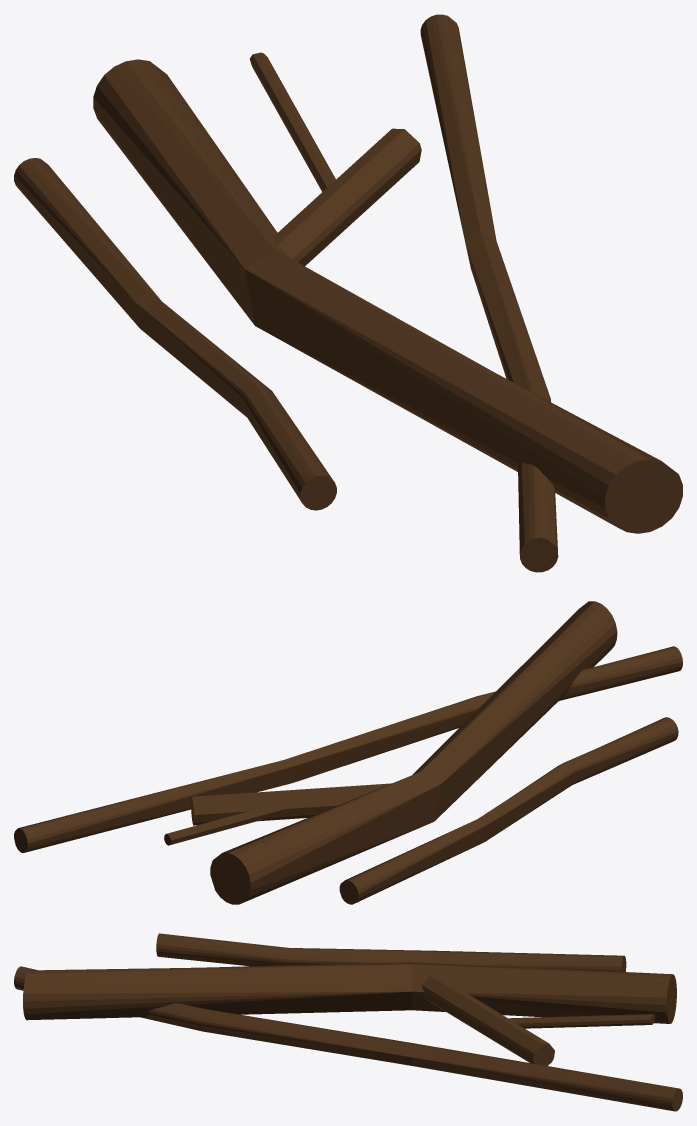
Rendered from twigs.fbx.
The picture shows the model from 3 angles, top to bottom: view 1: azimuth 30°, elevation 25°; view 2: azimuth 150°, elevation 25°; view 3: azimuth 270°, elevation 25°; orthographic projection. The views are drawn at different scales.
Visible parts, largest first — view 1: pCylinder6, branch3, branch2, pCylinder8, pCylinder9; view 2: pCylinder6, branch3, branch2, pCylinder8, pCylinder9; view 3: pCylinder6, branch3, branch2, pCylinder8, pCylinder9.
Part boxes in pixels (bbox=[...]): pCylinder6: bbox=[93, 59, 682, 533]; branch3: bbox=[420, 14, 558, 572]; branch2: bbox=[14, 158, 336, 510]; pCylinder8: bbox=[273, 128, 421, 266]; pCylinder9: bbox=[250, 52, 335, 191]; pCylinder6: bbox=[210, 601, 617, 904]; branch3: bbox=[14, 646, 682, 852]; branch2: bbox=[339, 717, 678, 904]; pCylinder8: bbox=[191, 783, 391, 825]; pCylinder9: bbox=[164, 803, 285, 845]; pCylinder6: bbox=[23, 962, 676, 1023]; branch3: bbox=[14, 966, 682, 1111]; branch2: bbox=[156, 933, 626, 971]; pCylinder8: bbox=[421, 976, 554, 1065]; pCylinder9: bbox=[508, 1014, 654, 1028].
Bounding box in the file's own units: 0.8447 × 0.1191 × 1.39.
